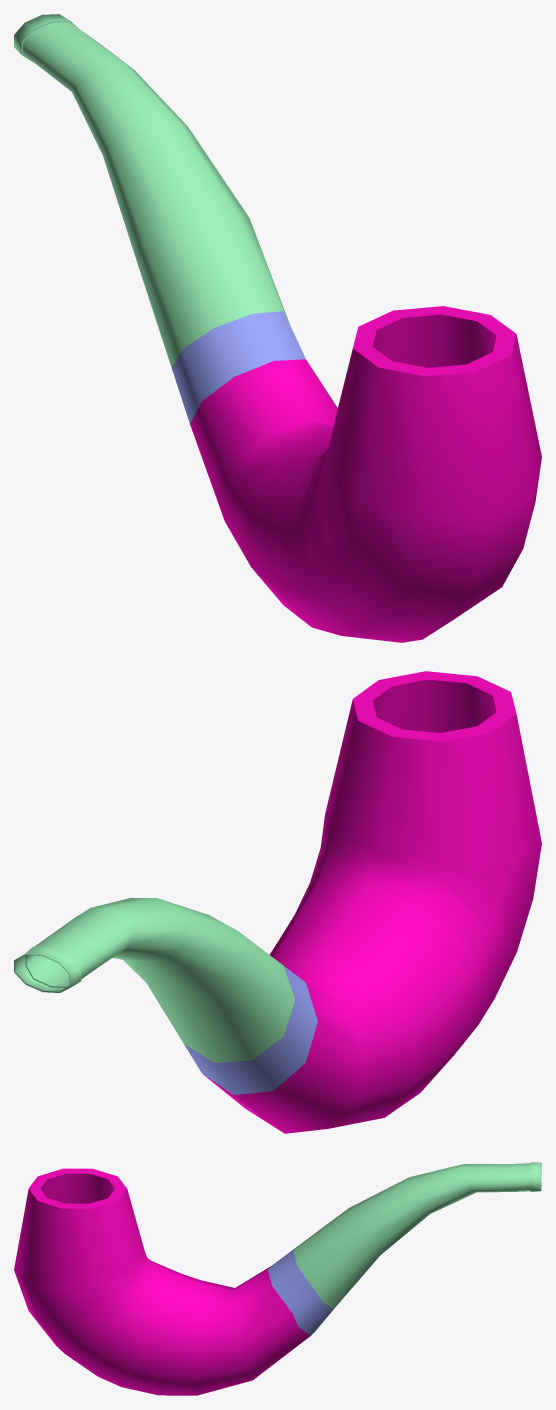
Rendered from SHERLOCK HOLMES PIPE.FBX.
3 views of the same model, one above another, from view 1: azimuth 30°, elevation 25°; view 2: azimuth 150°, elevation 25°; view 3: azimuth 270°, elevation 25° (orthographic). The views are drawn at different scales.
Parts seen in each view (by area): view 1: Line001; view 2: Line001; view 3: Line001.
Boxes of the visible parts, x1,y1,x2,y2 form: Line001: (14, 14, 541, 642); Line001: (14, 671, 541, 1133); Line001: (14, 1162, 541, 1395).
Size of the model in its own units: 31.38 by 62.66 by 133.
